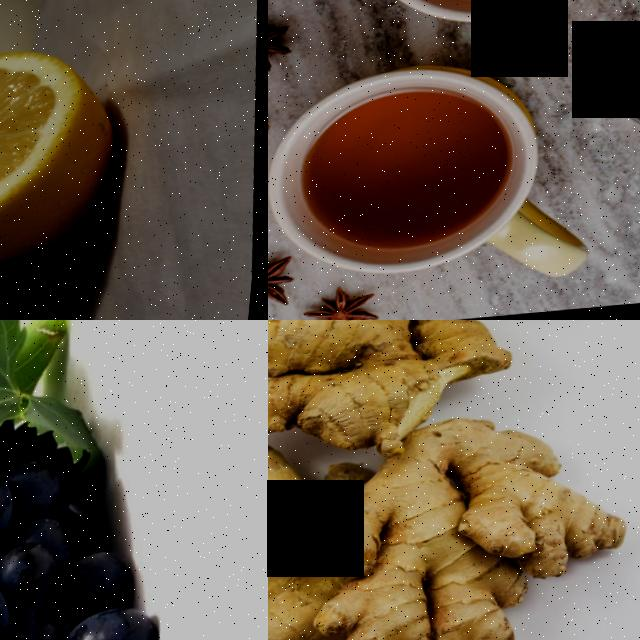ginger: (297, 410, 640, 640), (268, 320, 461, 460), (268, 438, 350, 640)
grapes: (0, 366, 202, 640)
lemon: (0, 37, 138, 266)
